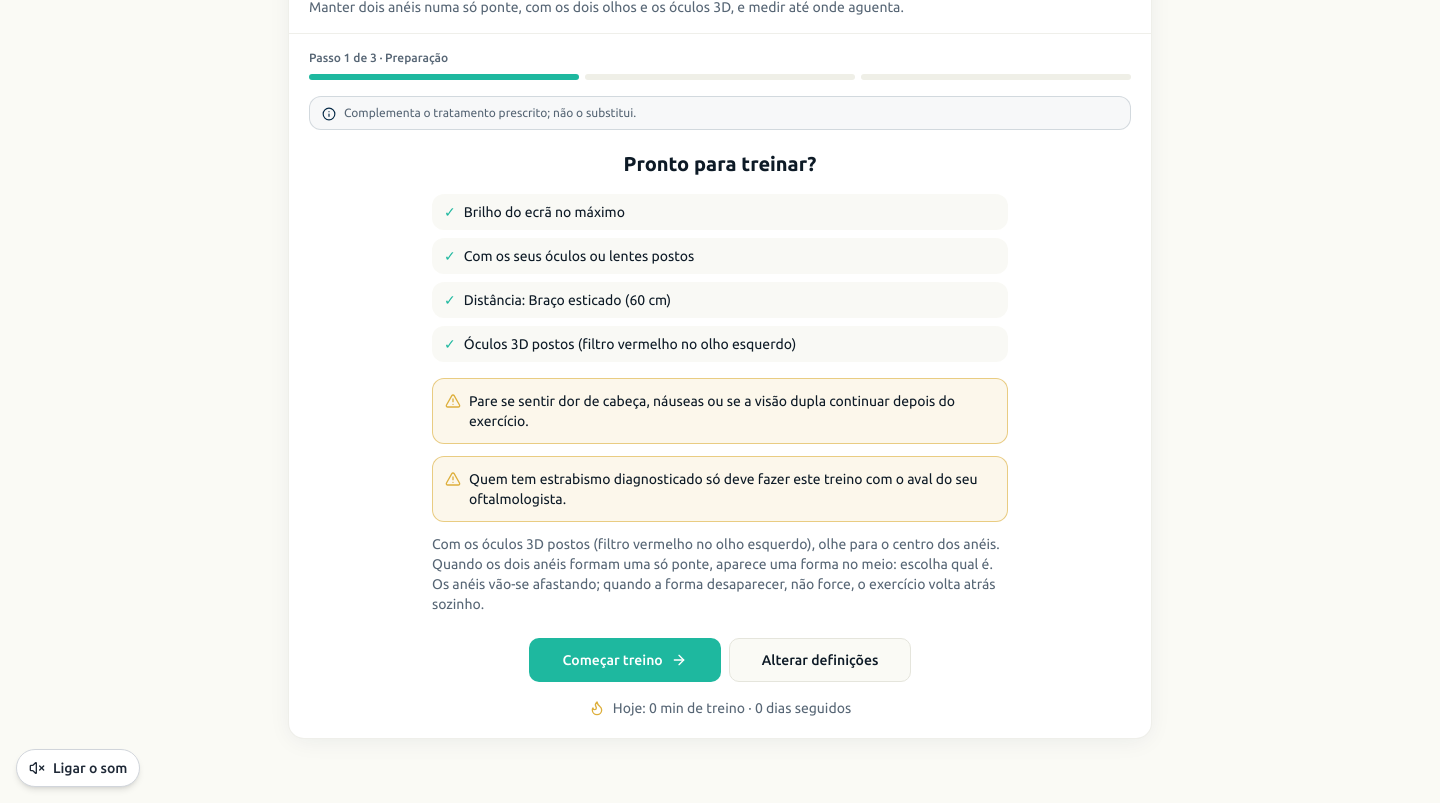
Sessão rápida dos treinos › 'Alterar definições' volta ao fluxo completo
(page scrolled)
Click the button "Alterar definições" at (820, 660), box [729, 638, 911, 682]
(page scrolled)
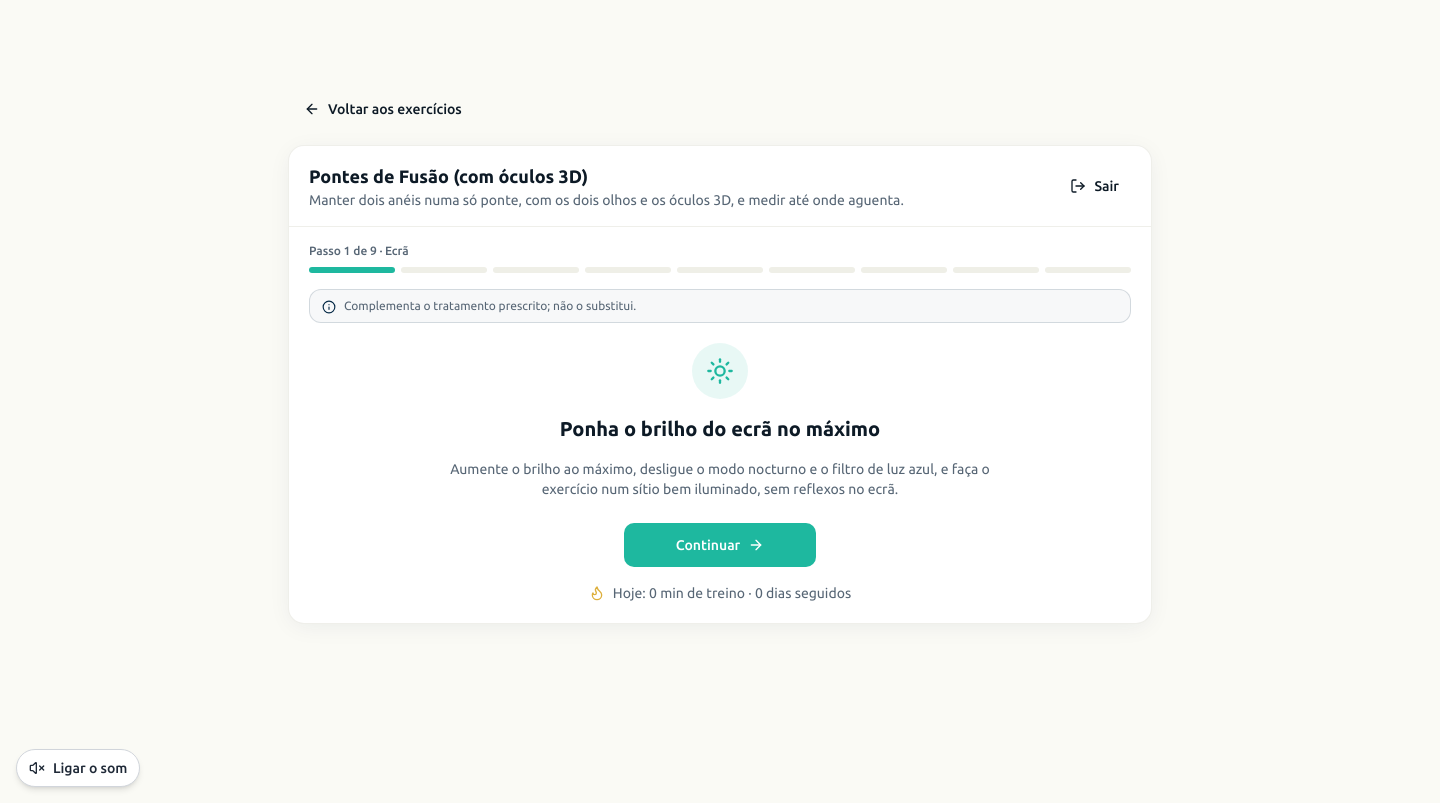
Now the heading "Ponha o brilho do ecrã no máximo" is shown, box [560, 415, 880, 443]
